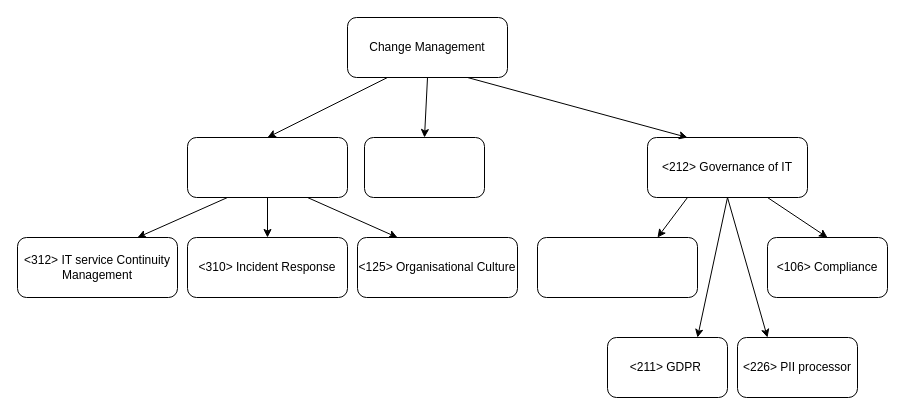
Image size: 905x415. Some labels were removed from this diagram. Here are the shapes that lost their labels. From the top down, the centre of each, then its label:
At pixel 267 167: "<115> Internal Control".
At pixel 424 167: "<135> Risk".
At pixel 617 267: "<110> Due Diligence".
